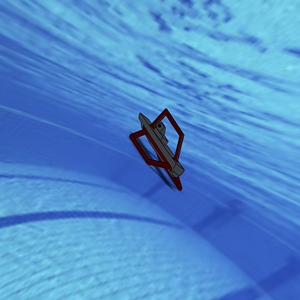submarine: (108, 83, 206, 205)
